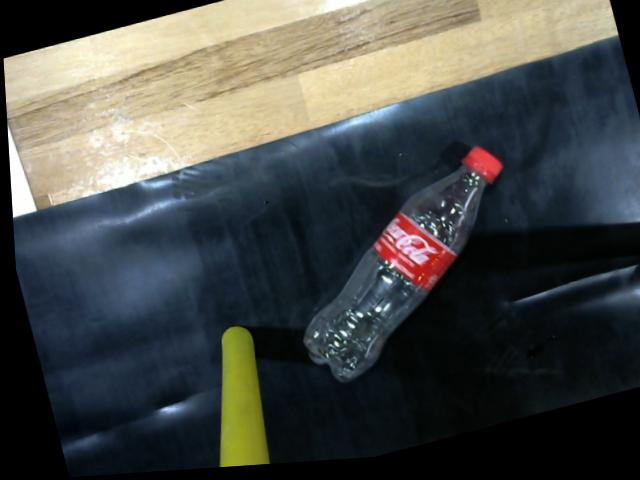bottle: (298, 155, 503, 389)
